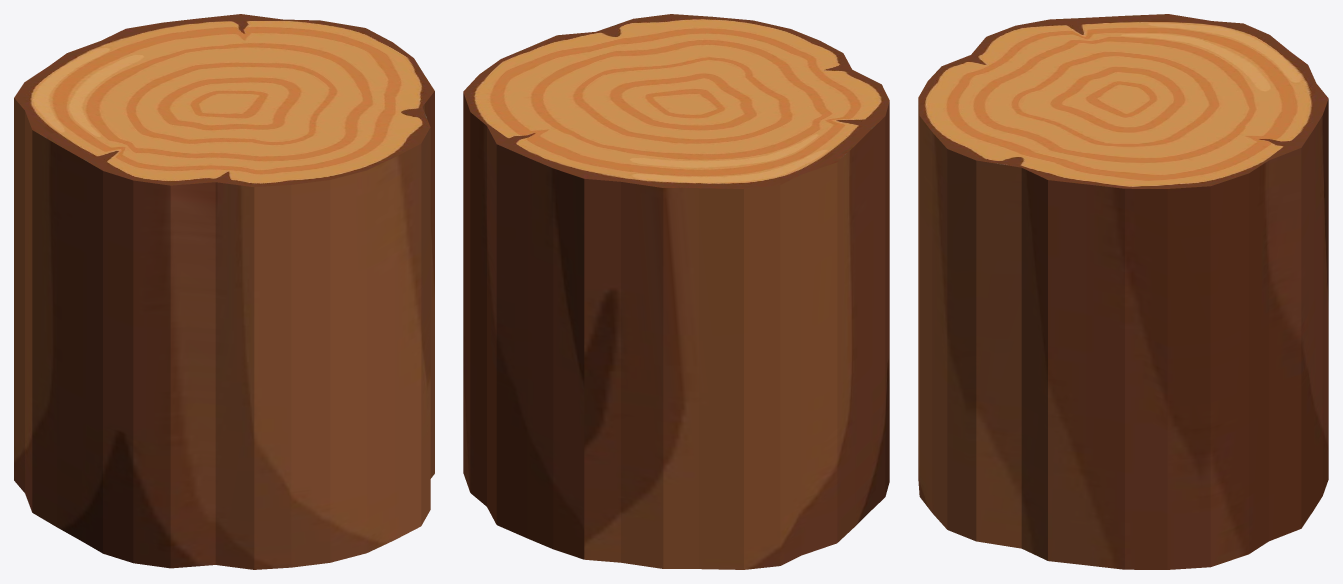
The model's file is TreeStump.fbx.
The picture shows the model from 3 angles, left to right: view 1: azimuth 30°, elevation 25°; view 2: azimuth 150°, elevation 25°; view 3: azimuth 270°, elevation 25°; orthographic projection.
Visible parts, largest first — view 1: Cylinder; view 2: Cylinder; view 3: Cylinder.
Boxes of the visible parts, x1,y1,x2,y2 form: Cylinder: (14,14,434,569); Cylinder: (463,14,889,569); Cylinder: (918,14,1328,569).
Size of the model in its own units: 7589 by 7704 by 7521.
